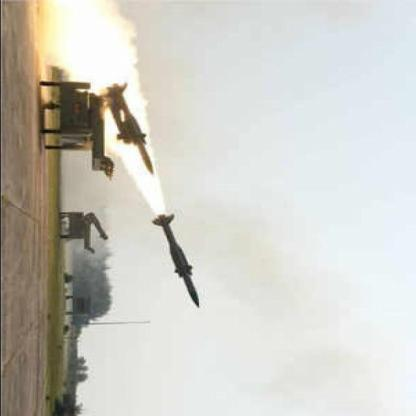MIL_TBM: (147, 211, 209, 316)
